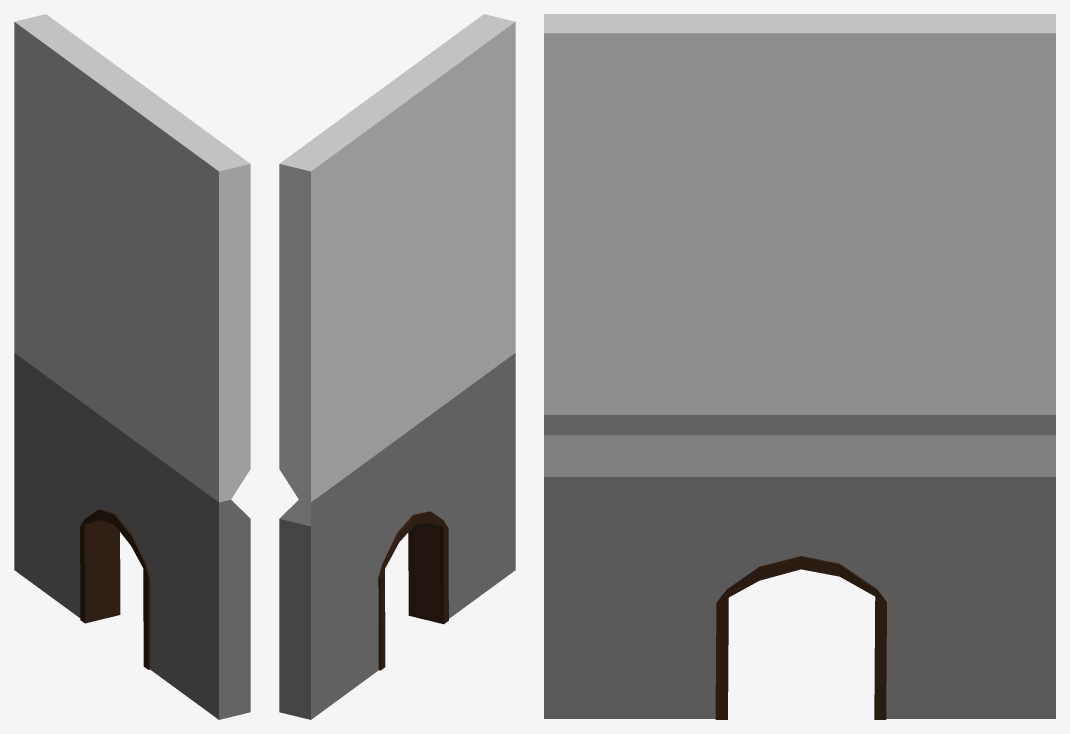
The model's file is ParedeRaty.fbx.
3 renders of one model, left to right at view 1: azimuth 30°, elevation 25°; view 2: azimuth 150°, elevation 25°; view 3: azimuth 270°, elevation 25°, orthographic. The views are drawn at different scales.
Parts seen in each view (by area): view 1: Cube.001, Cube, Cube.003, Cube.002; view 2: Cube.001, Cube.002, Cube.003, Cube; view 3: Cube.001, Cube.003, Cube.002, Cube.
Boxes of the visible parts, x1,y1,x2,y2 form: Cube.001: [14, 14, 250, 719]; Cube: [80, 520, 120, 623]; Cube.003: [80, 509, 149, 577]; Cube.002: [143, 567, 150, 669]; Cube.001: [279, 14, 515, 719]; Cube.002: [408, 523, 448, 624]; Cube.003: [379, 511, 447, 576]; Cube: [378, 568, 385, 670]; Cube.001: [544, 14, 1055, 718]; Cube.003: [716, 556, 886, 603]; Cube.002: [715, 597, 728, 719]; Cube: [874, 596, 886, 719].
Bounding box in the file's own units: 41.26 × 593 × 401.
